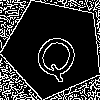Q: (28, 23, 88, 85)
